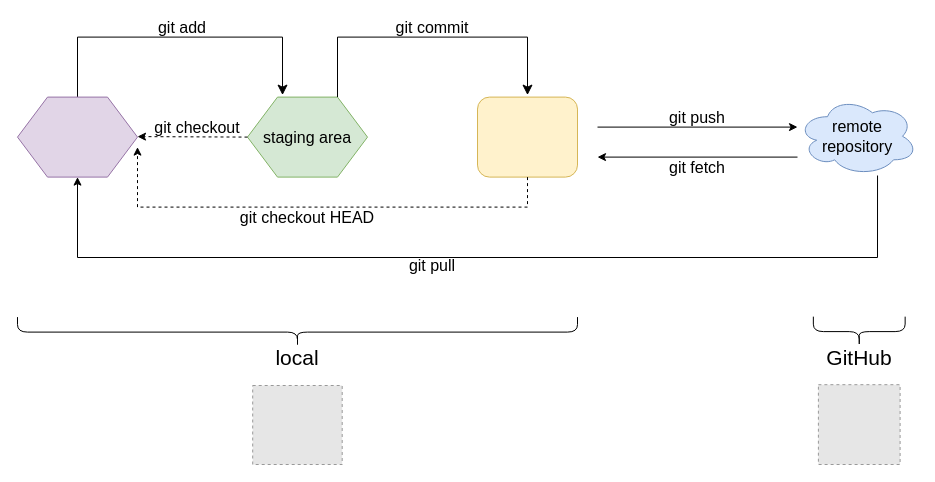
The diagram is 935 pixels wide and 482 high, and some of its shapes have lost their labels. Grey dashed boxes stand in for pictures. Each missing label, with the centre of its shape:
local repository: pixel 527 136
working directory: pixel 77 136
